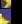star: (0, 9, 11, 24), (0, 0, 11, 8)
